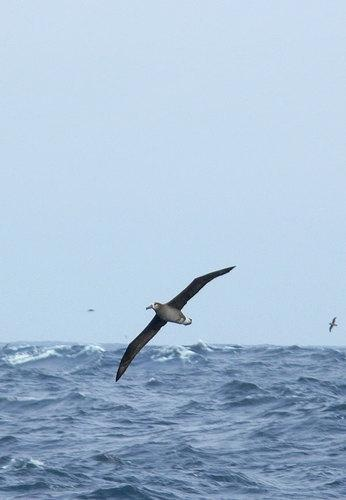bird: (113, 263, 238, 382), (324, 318, 340, 334)
